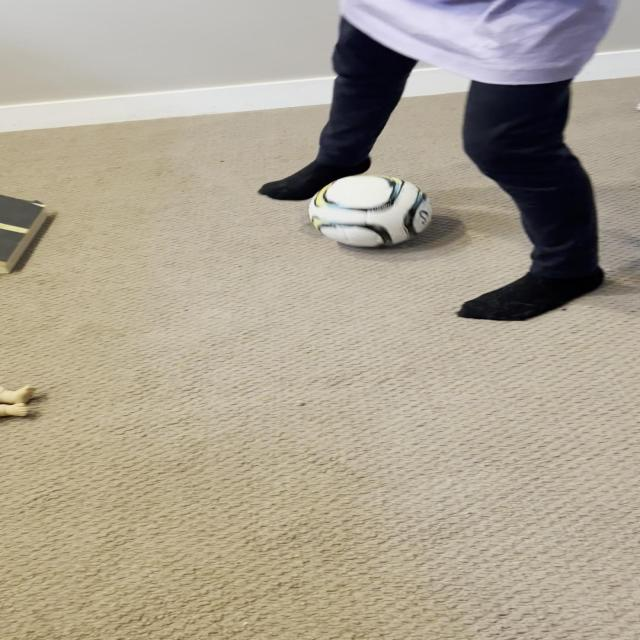Soccer Ball: (308, 173, 434, 247)
